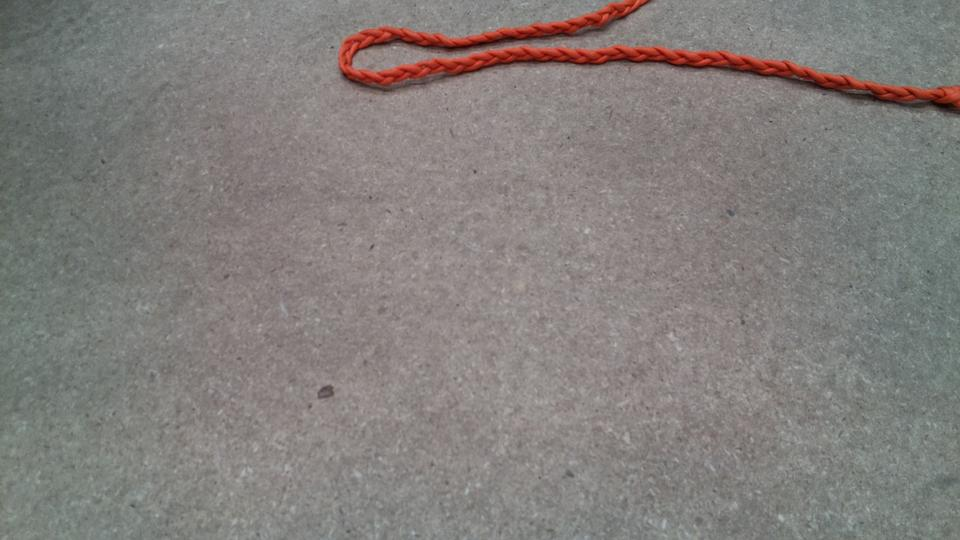rope: (335, 1, 960, 117)
